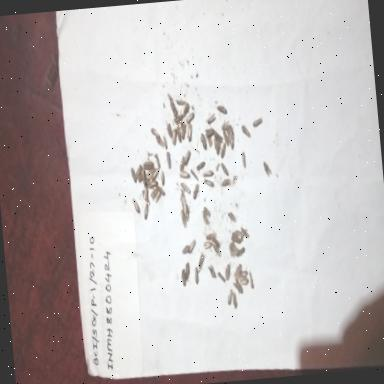pbw: (232, 277, 243, 294), (193, 266, 203, 284), (228, 240, 240, 255), (202, 168, 216, 180), (186, 122, 194, 142), (213, 128, 223, 144), (182, 150, 192, 166), (170, 98, 178, 118), (170, 128, 178, 146), (227, 132, 235, 150), (225, 209, 236, 222), (150, 166, 160, 180), (166, 118, 173, 138), (222, 129, 230, 146), (263, 160, 271, 177), (220, 161, 229, 176), (187, 238, 196, 253), (172, 113, 184, 124), (132, 197, 140, 213), (192, 183, 200, 199), (197, 252, 205, 268), (234, 263, 242, 279), (180, 122, 187, 140), (134, 164, 143, 178), (200, 132, 207, 150), (240, 224, 249, 238), (182, 102, 190, 117), (156, 184, 166, 196), (180, 208, 186, 228), (178, 156, 186, 171), (150, 126, 160, 138), (206, 112, 216, 124), (180, 182, 190, 194), (176, 124, 182, 144), (212, 243, 221, 256), (156, 134, 164, 148), (226, 288, 233, 304), (242, 124, 250, 138), (219, 142, 226, 158), (208, 264, 216, 278), (202, 240, 213, 250), (185, 112, 195, 123), (231, 234, 242, 244), (179, 169, 190, 179), (202, 178, 213, 188), (195, 160, 206, 170), (232, 290, 238, 308), (248, 270, 254, 288), (142, 160, 154, 169), (166, 151, 172, 169), (180, 268, 186, 286), (212, 235, 220, 248), (150, 188, 158, 201), (224, 263, 230, 280), (236, 246, 246, 256), (217, 104, 227, 114), (252, 117, 262, 127), (181, 244, 190, 255), (147, 179, 158, 188), (201, 210, 208, 224), (215, 138, 221, 154), (154, 152, 160, 168), (184, 262, 190, 278), (204, 206, 212, 218), (143, 203, 149, 219), (220, 178, 232, 186), (130, 166, 136, 182), (221, 120, 230, 130), (141, 167, 146, 184), (162, 135, 168, 149), (205, 128, 214, 137), (231, 229, 241, 237), (206, 232, 216, 240), (176, 98, 186, 105), (144, 184, 148, 201), (242, 151, 246, 168), (160, 169, 164, 185)
